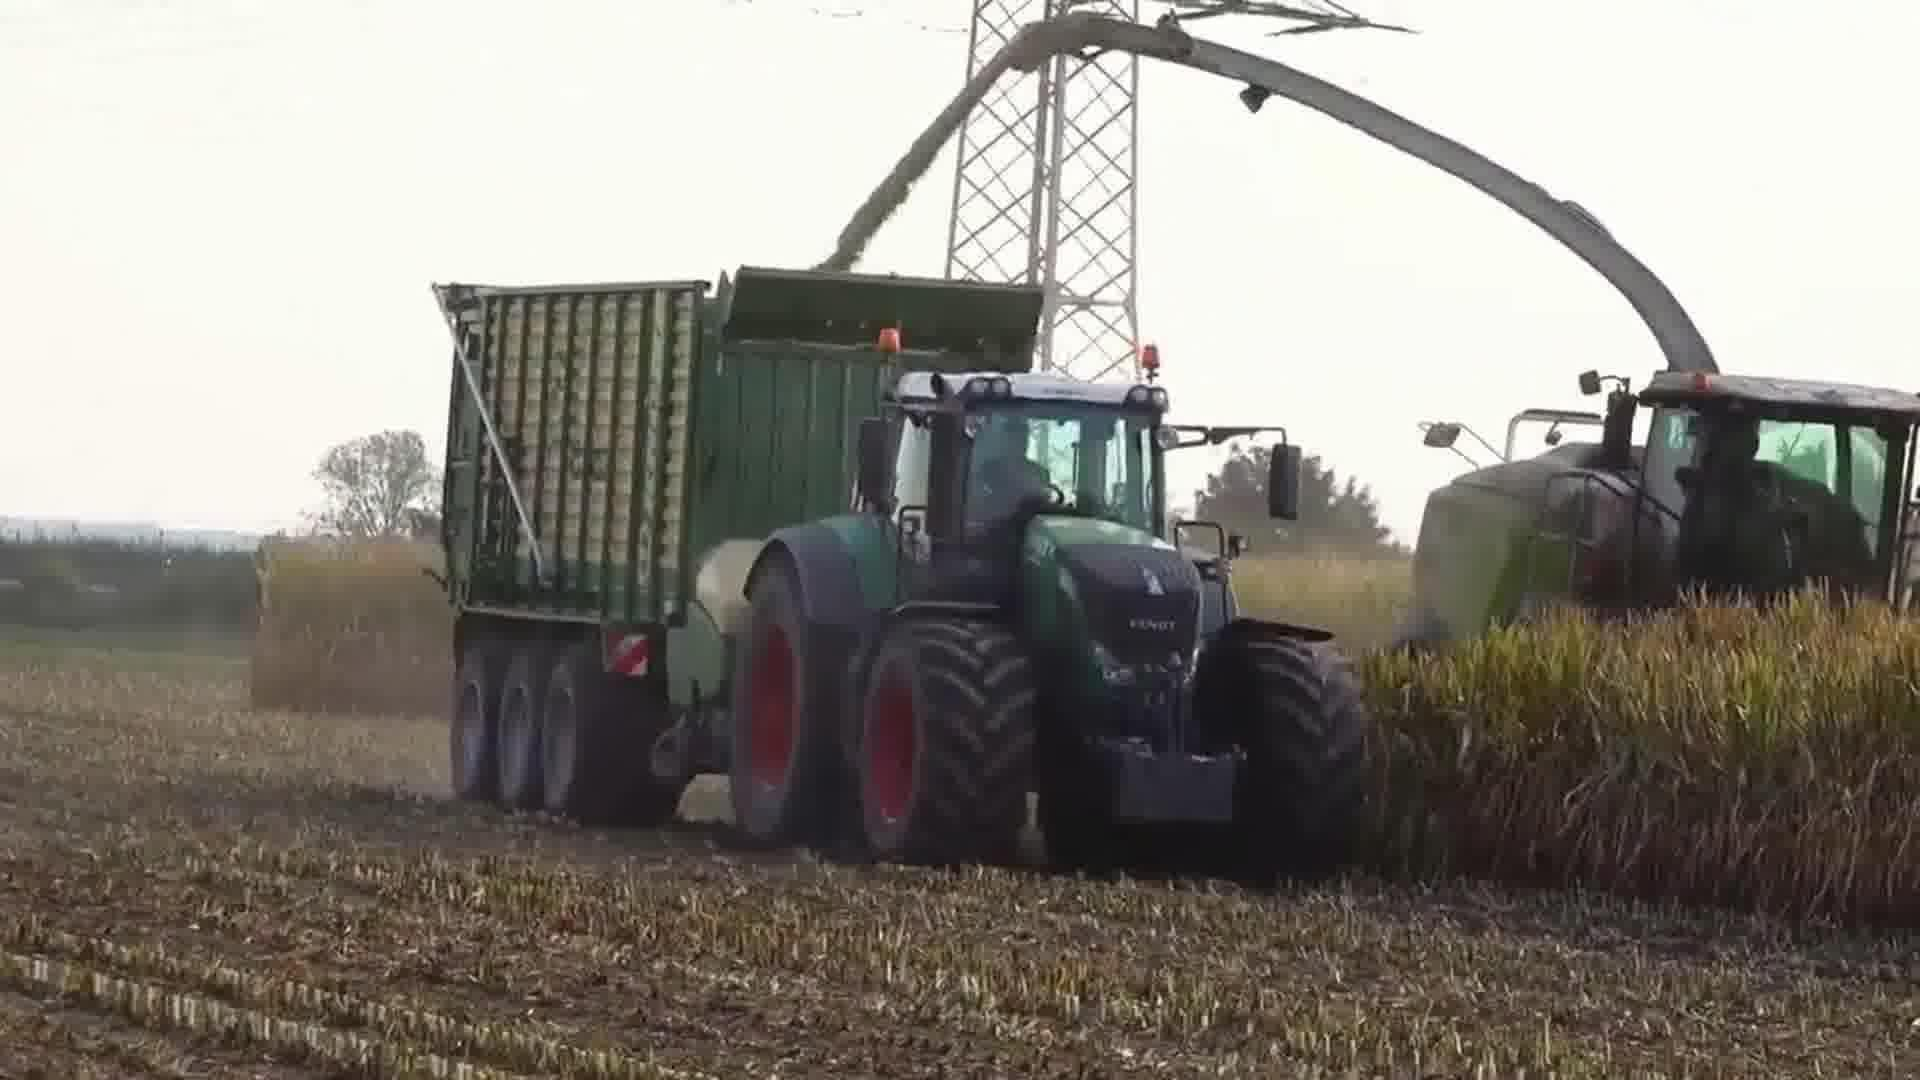combine harvester: (1007, 0, 1920, 700)
tractor: (716, 353, 1386, 895)
trailer: (423, 260, 1046, 836)
